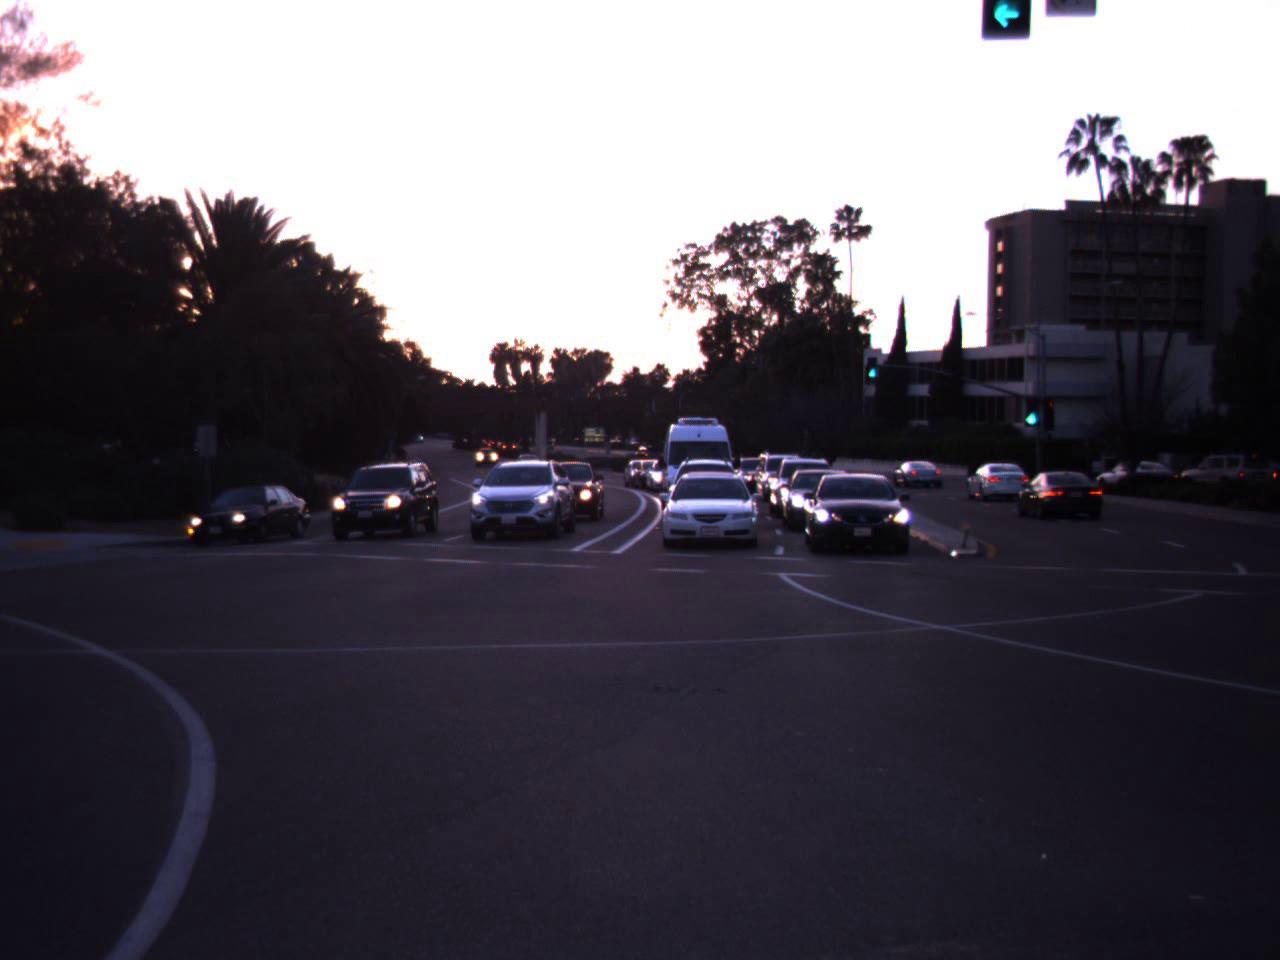go: (959, 0, 1052, 41), (1013, 371, 1049, 431), (864, 354, 879, 379)
